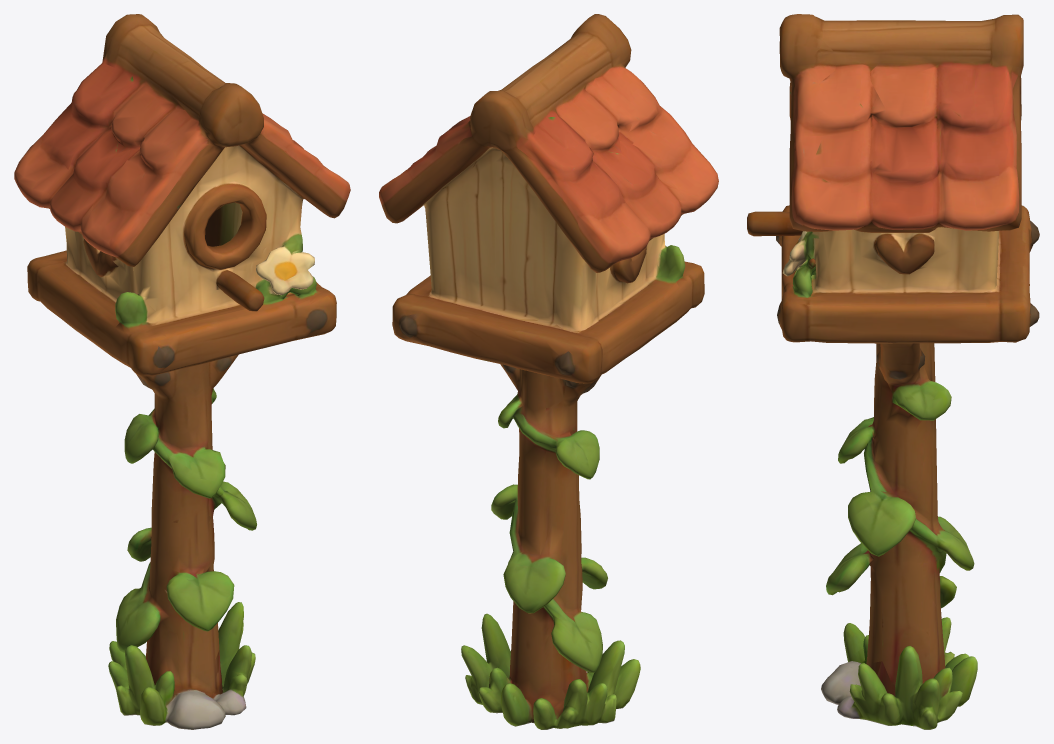
3 views of the same model, side by side, from view 1: azimuth 30°, elevation 25°; view 2: azimuth 150°, elevation 25°; view 3: azimuth 270°, elevation 25° (orthographic). The views are drawn at different scales.
Visible parts, largest first — view 1: bird-house; view 2: bird-house; view 3: bird-house.
Part boxes in pixels (bbox=[...]): bird-house: bbox=[14, 14, 350, 729]; bird-house: bbox=[379, 14, 718, 729]; bird-house: bbox=[747, 14, 1039, 729].
Size of the model in its own units: 0.9673 by 2.4 by 0.9272.
1 material, 1 textured.
